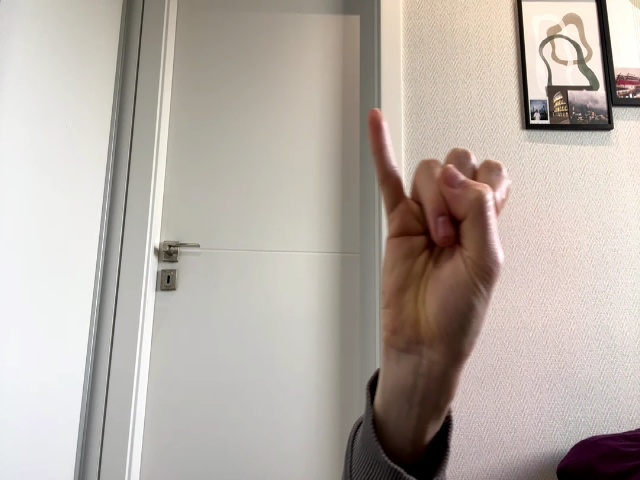I: (367, 107, 508, 348)
